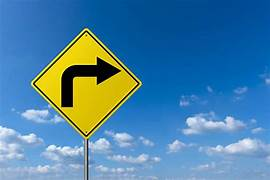right: (30, 28, 142, 139)
